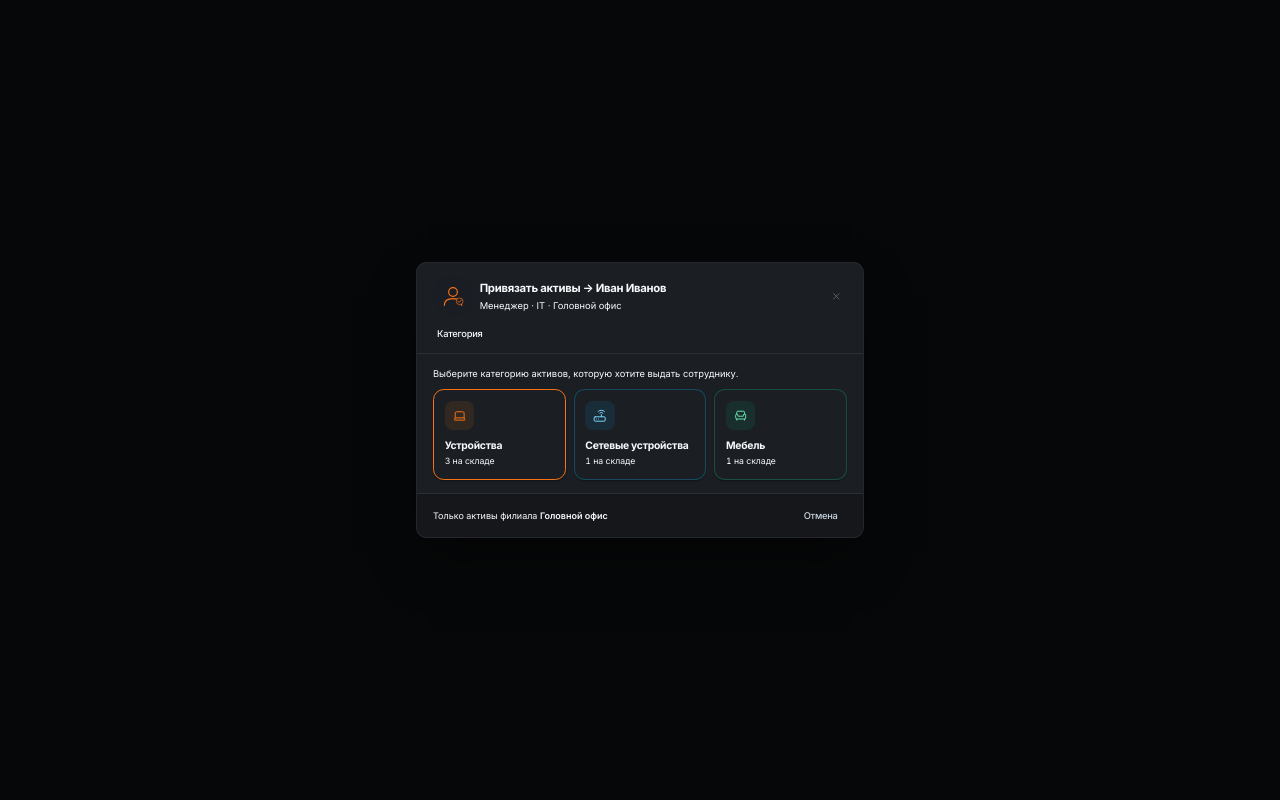
Test: AssetPickerSheet — group step (step 1) › navigates to category step on group click
Click the text "Устройства".
click(473, 446)  # box [445,438,502,454]
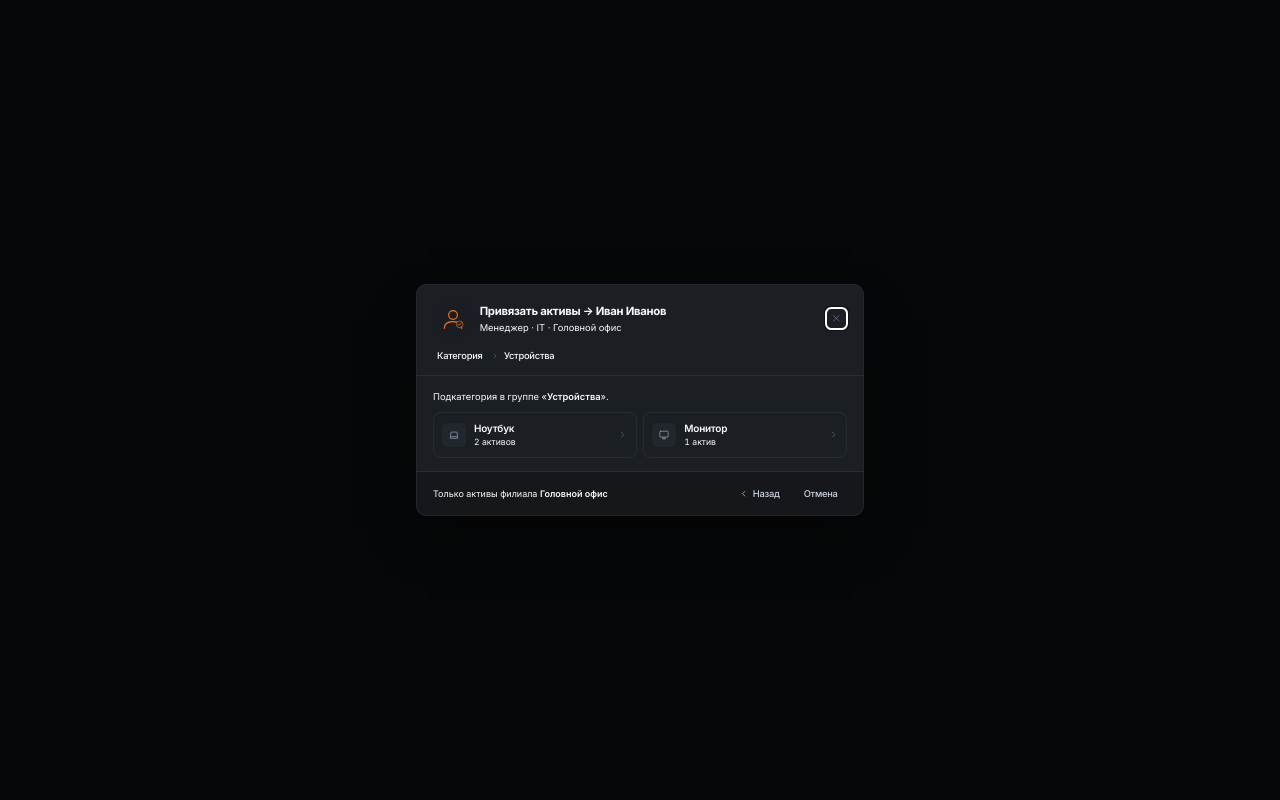
Expected: the text "Ноутбук" is shown, [474,422,514,434]
Expected: the text "Монитор" is shown, [684,422,727,434]
